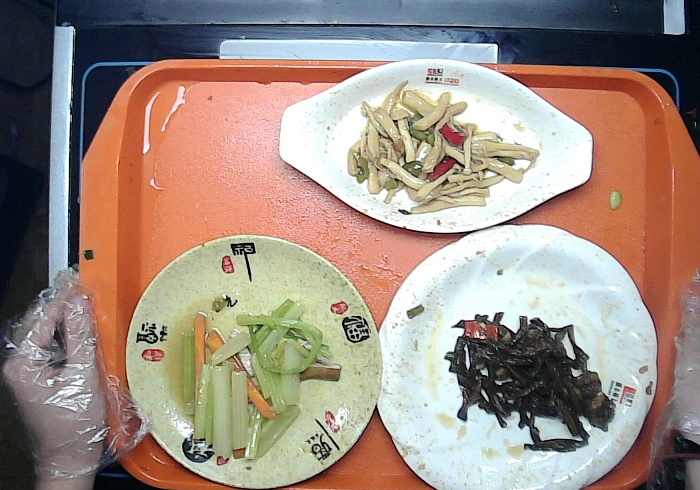NLDX-Bai_Zhe_Yuan_Pan: (375, 224, 658, 490)
NLDX-Fu_Zi_Yuan_Pan: (125, 234, 384, 490)
NLDX-Yu_Pan: (277, 58, 594, 234)
